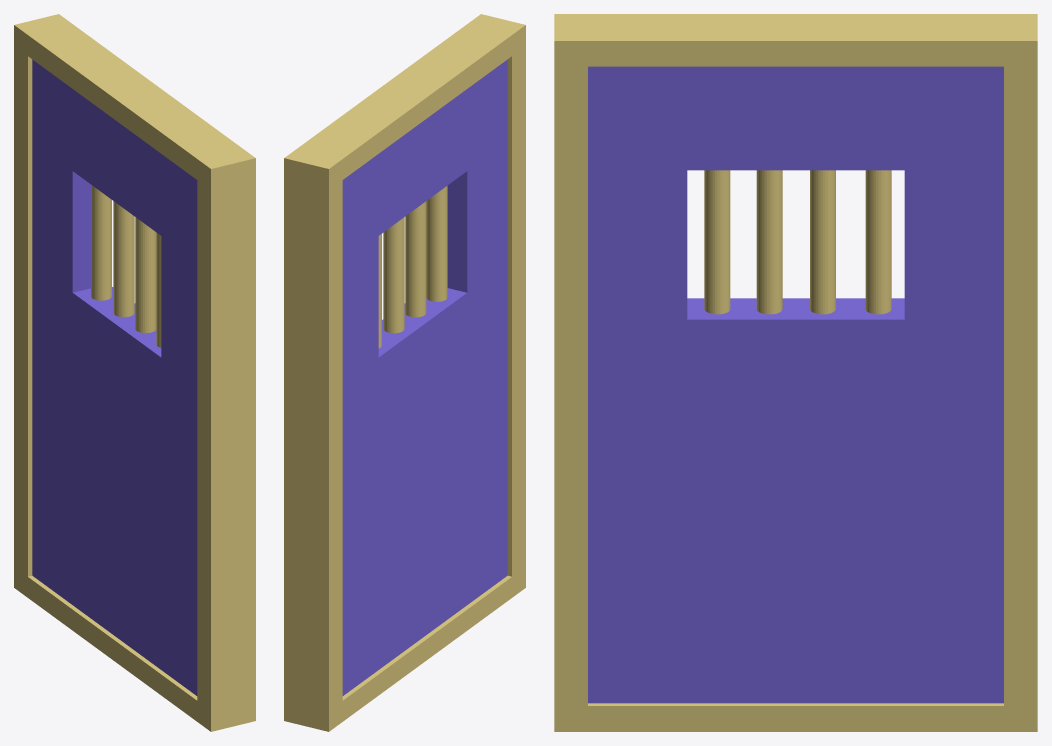
File: Cell_Door.fbx
3 renders of one model, left to right at view 1: azimuth 30°, elevation 25°; view 2: azimuth 150°, elevation 25°; view 3: azimuth 270°, elevation 25°, orthographic. The views are drawn at different scales.
Visible parts, largest first — view 1: Cell_Door_Base; view 2: Cell_Door_Base; view 3: Cell_Door_Base.
Part boxes in pixels (x1,y1,x2,y2): Cell_Door_Base: [14, 14, 255, 731]; Cell_Door_Base: [284, 14, 525, 731]; Cell_Door_Base: [554, 14, 1037, 731].
Size of the model in its own units: 100 by 1200 by 761.
